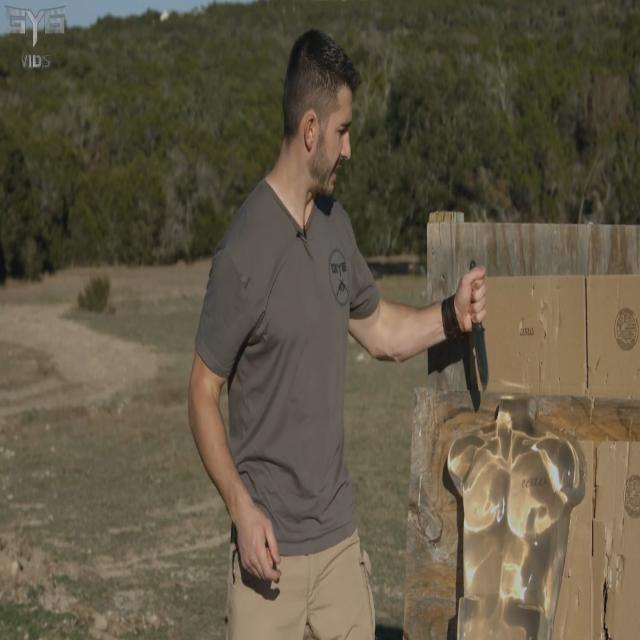knife: (473, 323, 493, 399)
